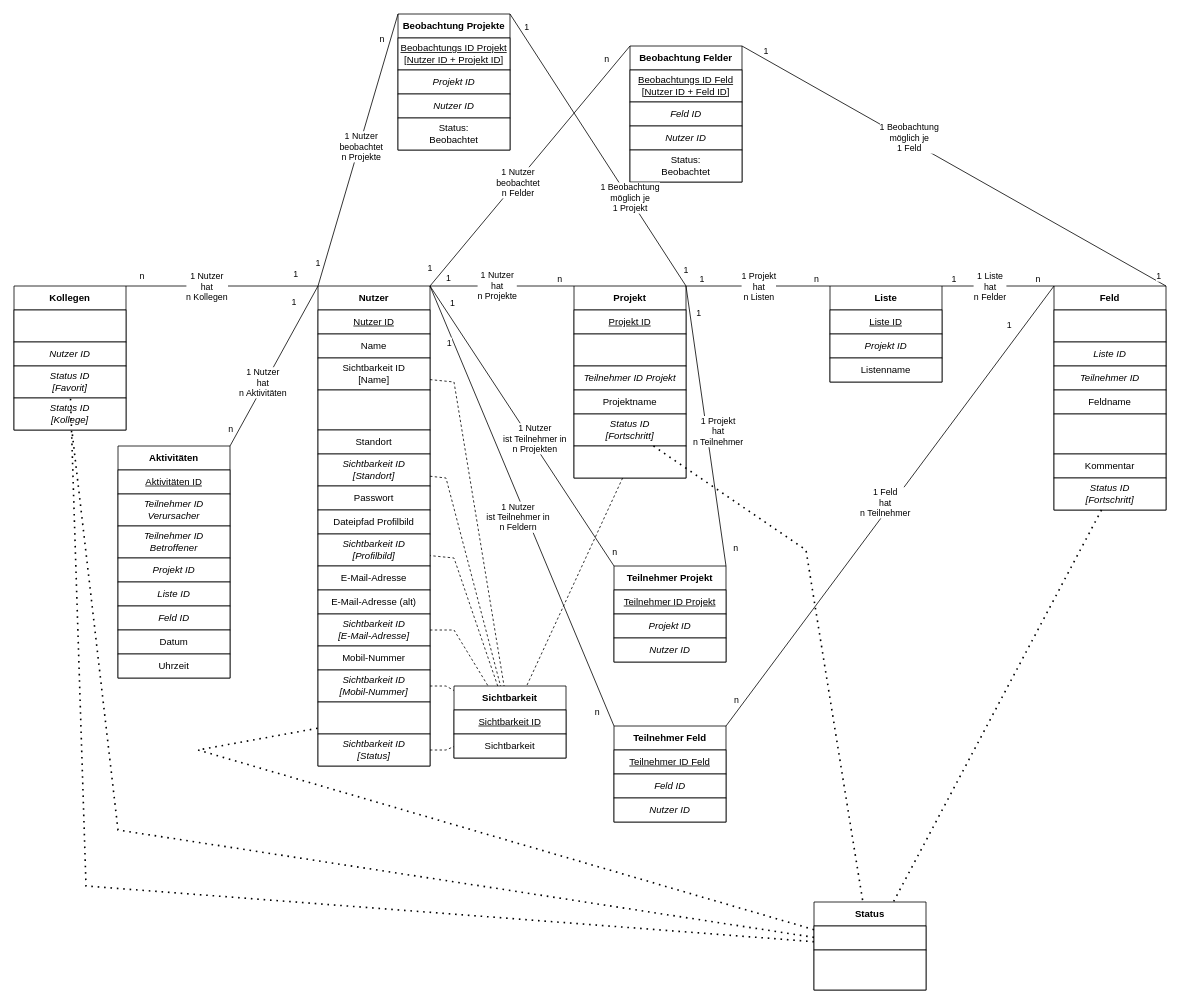
Some shapes in this 1181 by 1004 pixel diagram are drawn without their labels. The centre of each missing label's shape, as x and y in pixels:
"Benutzername / Anzeige Name" goes at (x=373, y=409).
"Datum / Termin" goes at (x=1109, y=433).
"Feld ID [Projekt ID + Liste ID]" goes at (x=1109, y=325).
"Kollegen ID [Nutzer ID + Nutzer ID]" goes at (x=69, y=325).
"Leiter ID [Nutzer ID]" goes at (x=629, y=349).
"Sichtbarkeit ID [Projekt]" goes at (x=629, y=461).
"Status [Fortschritt/Aktiv Favorit/Kollege]" goes at (x=869, y=969).
"Status ID" goes at (x=869, y=937).
"Status ID [Aktiv]" goes at (x=373, y=717).
